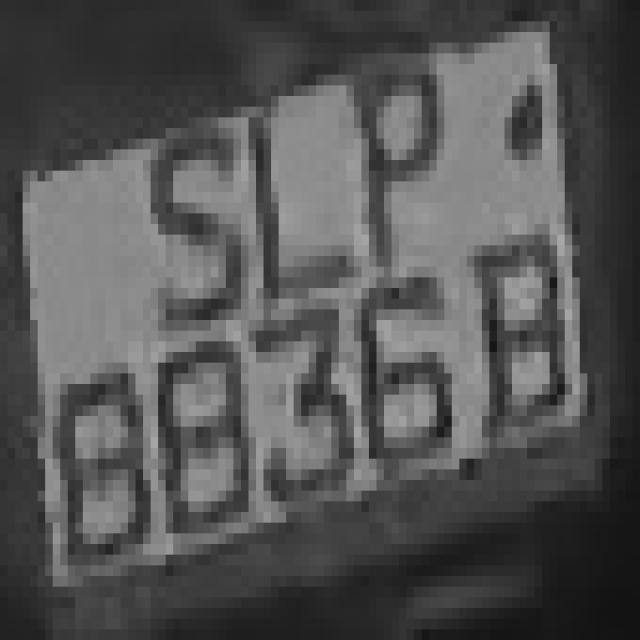3: (226, 288, 361, 533)
6: (332, 235, 474, 501)
8: (38, 331, 158, 618), (121, 331, 271, 544)
B: (436, 181, 580, 491)
L: (218, 74, 362, 298)
P: (324, 32, 459, 277)
S: (135, 96, 241, 341)
